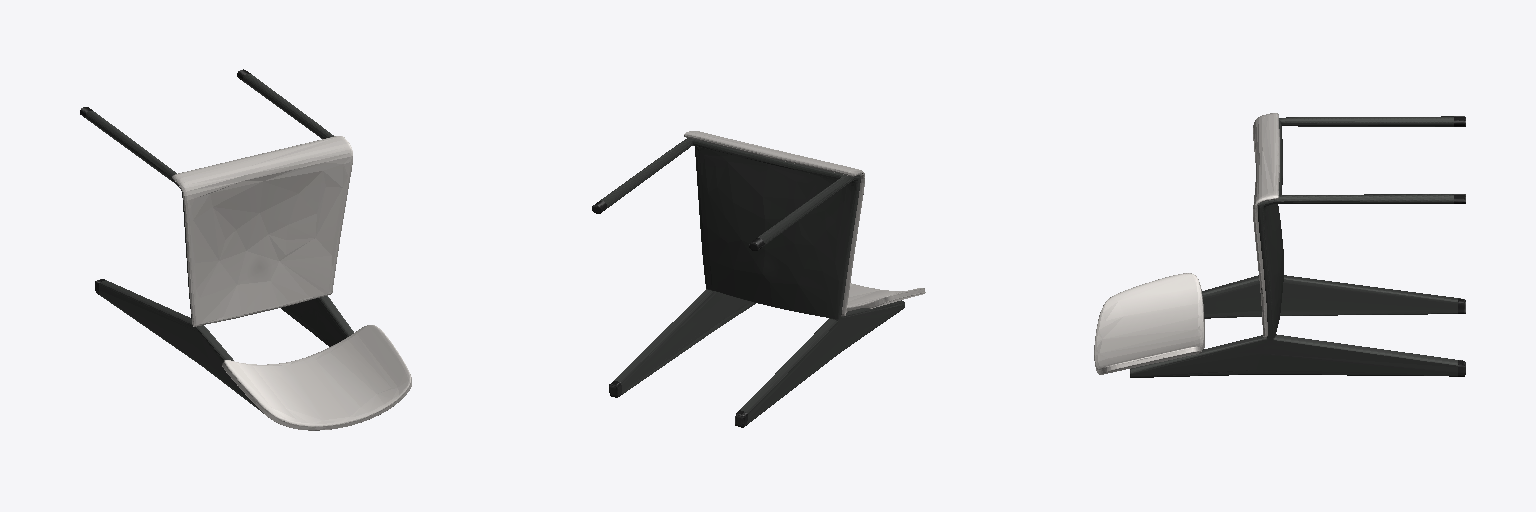
3 views of the same model, side by side, from view 1: azimuth 30°, elevation 25°; view 2: azimuth 150°, elevation 25°; view 3: azimuth 270°, elevation 25° (orthographic).
Size of the model in its own units: 0.4169 by 0.4769 by 0.7813.
1 materials, 1 textured.